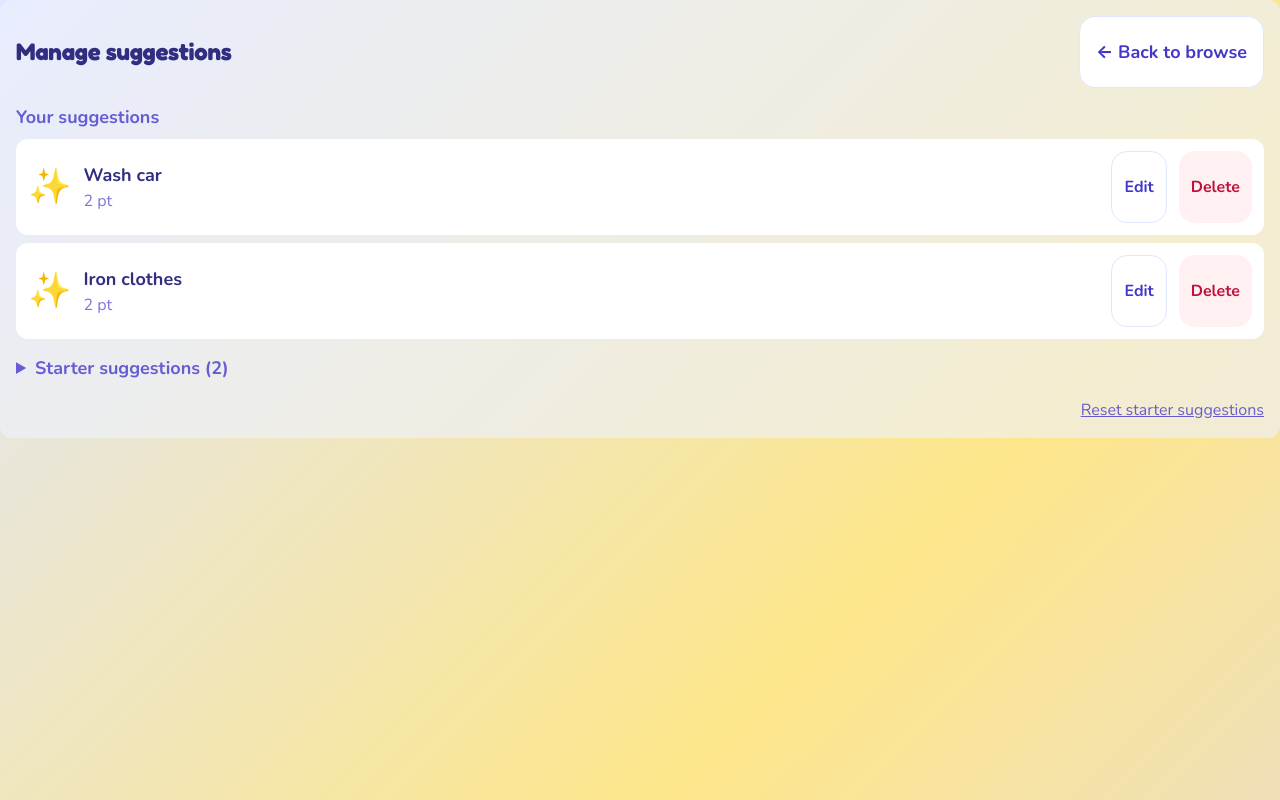
it: ManageSuggestionsView › Edit button reveals a draft form pre-filled with the suggestion
Note: The first custom suggestion is "Wash car" — find its Edit button.
Click the button "Edit" in the row of "Wash car" at (1139, 187), box 1111,151 -> 1167,223
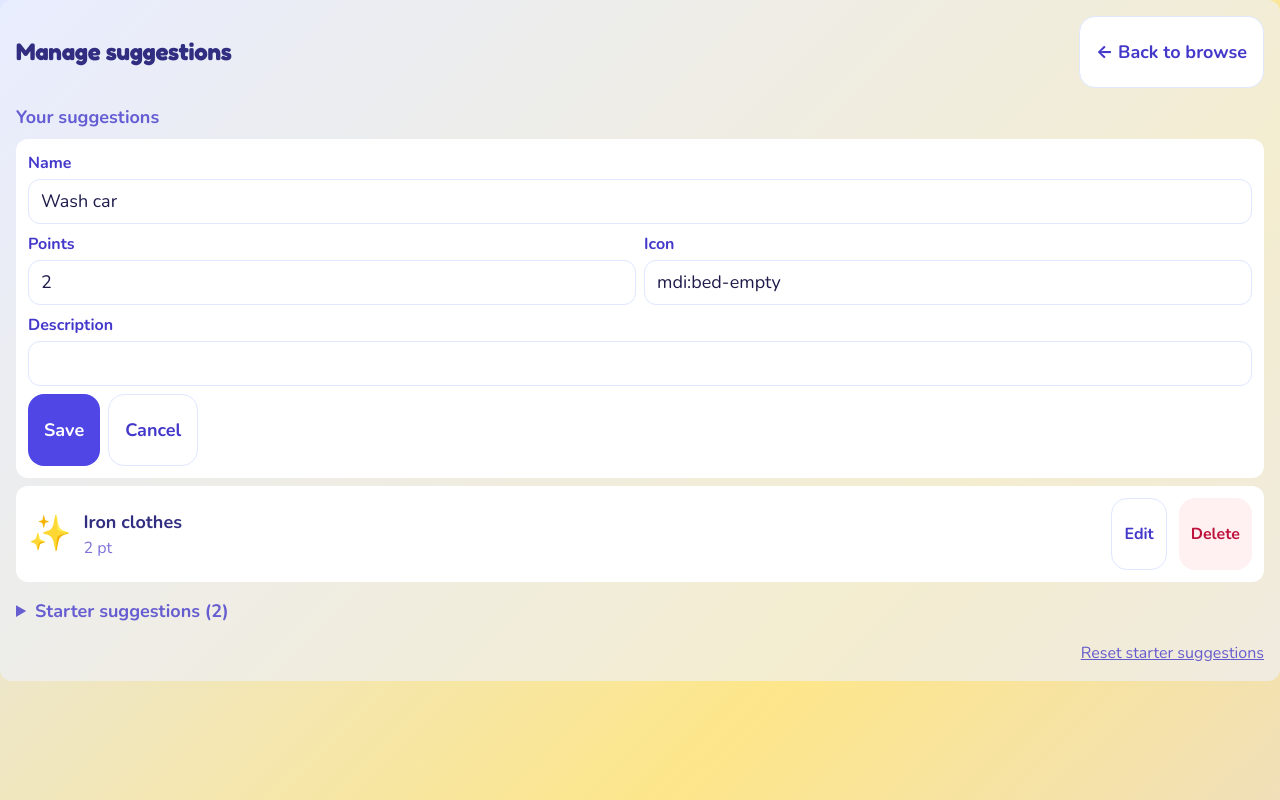
Expected: the field labelled "Name" holds "Wash car", 28,179 -> 1252,224
